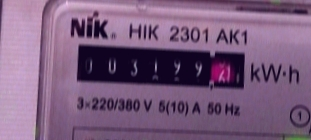0: (104, 53, 116, 73), (81, 53, 91, 71)
1: (148, 53, 158, 72)
3: (126, 55, 137, 76)
6: (214, 66, 225, 80)
9: (169, 54, 180, 74), (191, 57, 202, 76)
screen: (66, 31, 251, 97)
